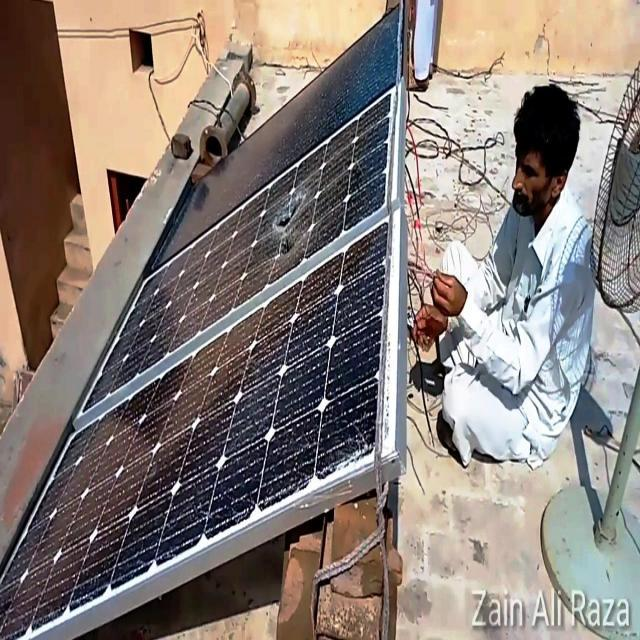faulty: (2, 206, 401, 636), (73, 84, 403, 422)
